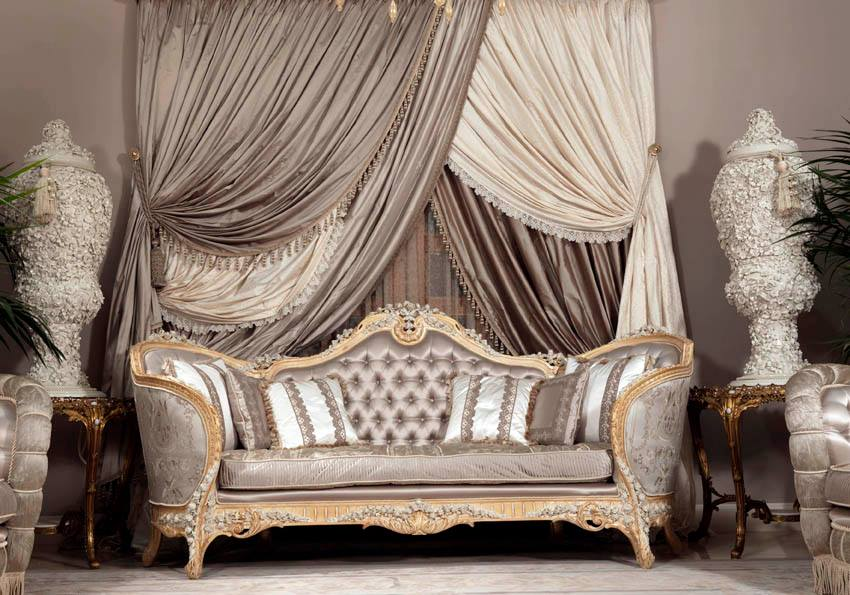Carving Chair: (133, 306, 684, 572)
